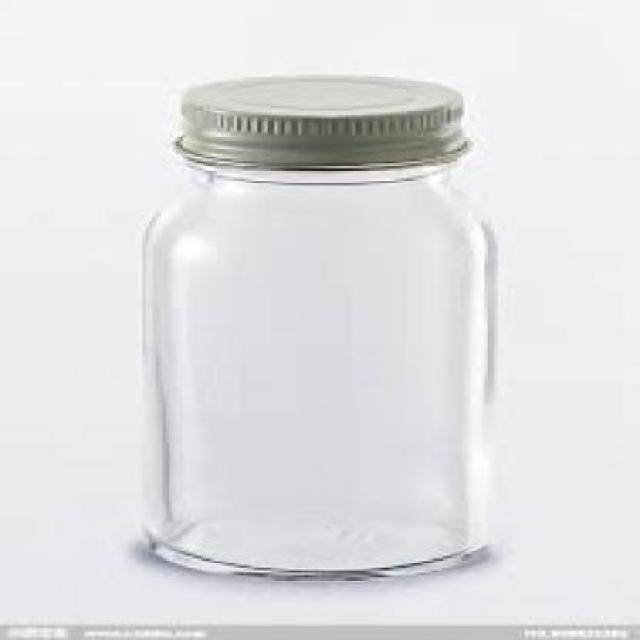kaca: (142, 157, 488, 575)
